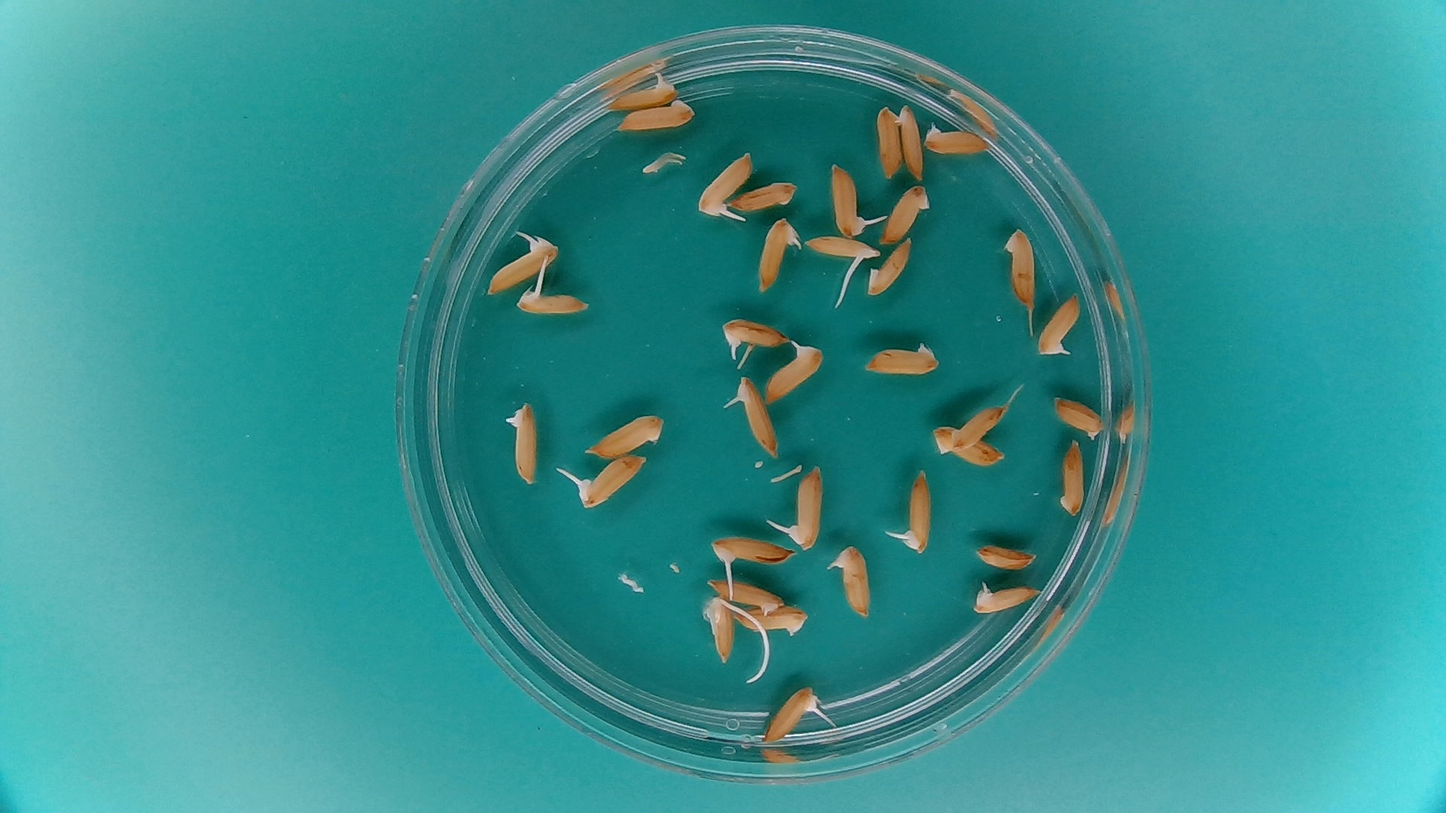no: (581, 410, 667, 459), (999, 224, 1039, 310), (878, 183, 933, 245), (862, 338, 943, 379), (931, 423, 1005, 466), (949, 401, 1011, 452), (866, 237, 915, 299), (615, 97, 698, 133), (706, 577, 785, 614), (1054, 437, 1087, 519), (920, 119, 990, 156), (731, 177, 799, 215), (508, 403, 539, 484), (1051, 393, 1106, 438), (735, 604, 811, 635), (897, 107, 929, 179), (874, 101, 903, 179), (973, 540, 1040, 571)
yes: (484, 238, 555, 294), (579, 452, 648, 508), (697, 149, 755, 215), (764, 343, 824, 404), (736, 378, 780, 458), (760, 684, 816, 744), (1035, 291, 1082, 361), (754, 218, 796, 294), (899, 470, 936, 555), (789, 469, 826, 550), (711, 532, 796, 566), (835, 543, 874, 617), (719, 315, 789, 355), (603, 75, 678, 111), (805, 231, 882, 265), (828, 165, 864, 237), (703, 594, 740, 660), (512, 288, 585, 318), (969, 582, 1034, 615)
